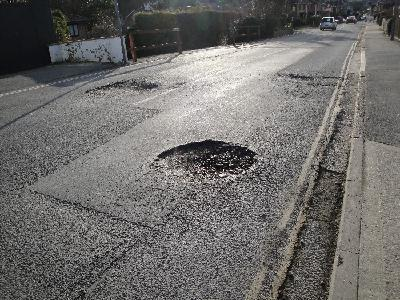Pothole: (146, 137, 262, 187), (269, 67, 344, 89), (79, 82, 172, 95)
